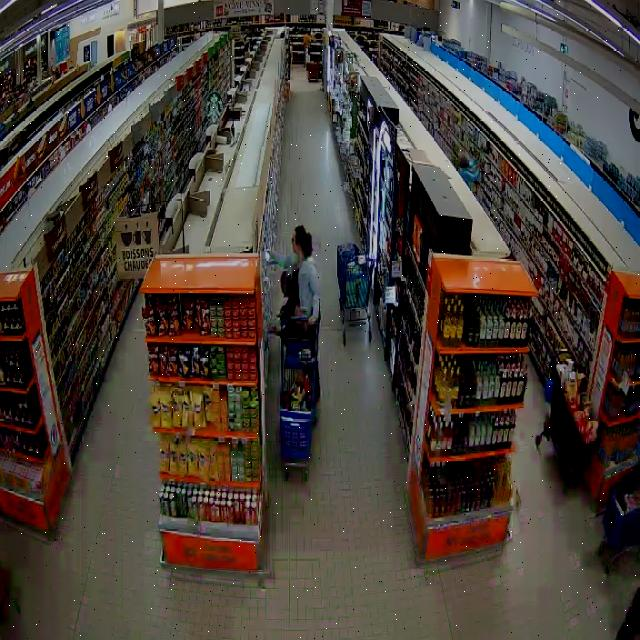bags: (293, 305, 310, 333)
hands: (308, 316, 317, 326)
person: (268, 226, 320, 337), (267, 270, 294, 335)
